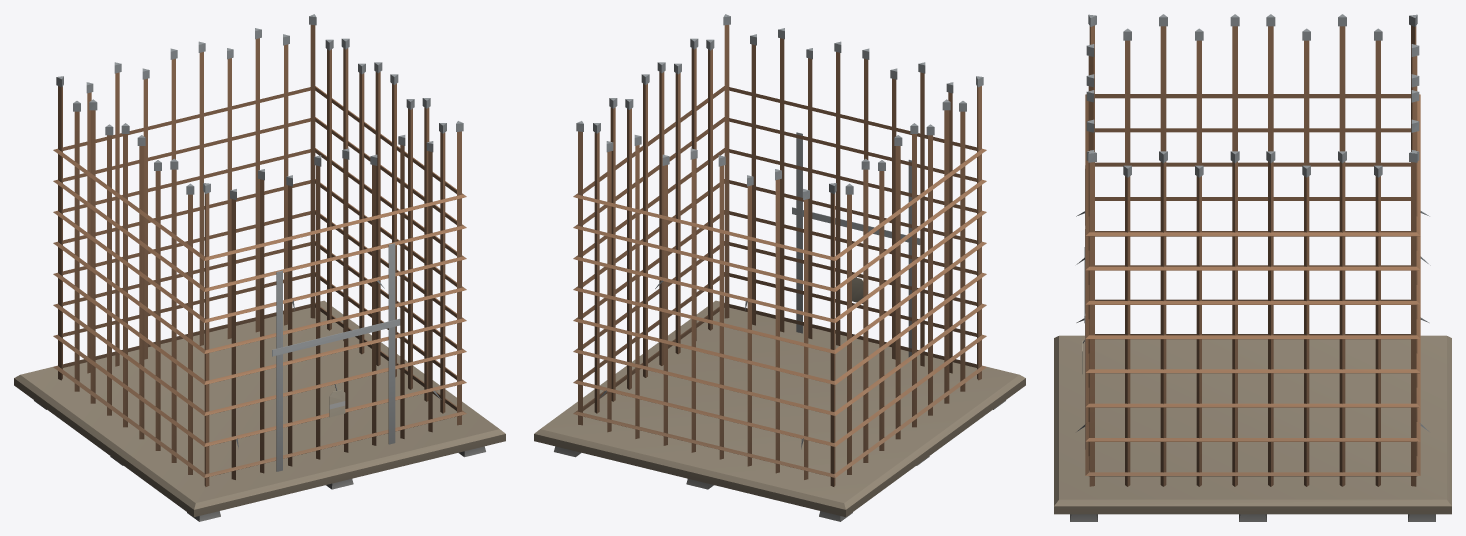
File: rebar.glb
3 renders of one model, left to right at view 1: azimuth 30°, elevation 25°; view 2: azimuth 150°, elevation 25°; view 3: azimuth 270°, elevation 25°, orthographic. The views are drawn at different scales.
Visible parts, largest first — view 1: rebar.001; view 2: rebar.001; view 3: rebar.001.
Boxes of the visible parts, left/top/right/bottom form: rebar.001: left=14, top=14, right=505, bottom=521; rebar.001: left=534, top=14, right=1025, bottom=521; rebar.001: left=1054, top=14, right=1451, bottom=521.
Bounding box in the file's own units: 2 × 2 × 2.
